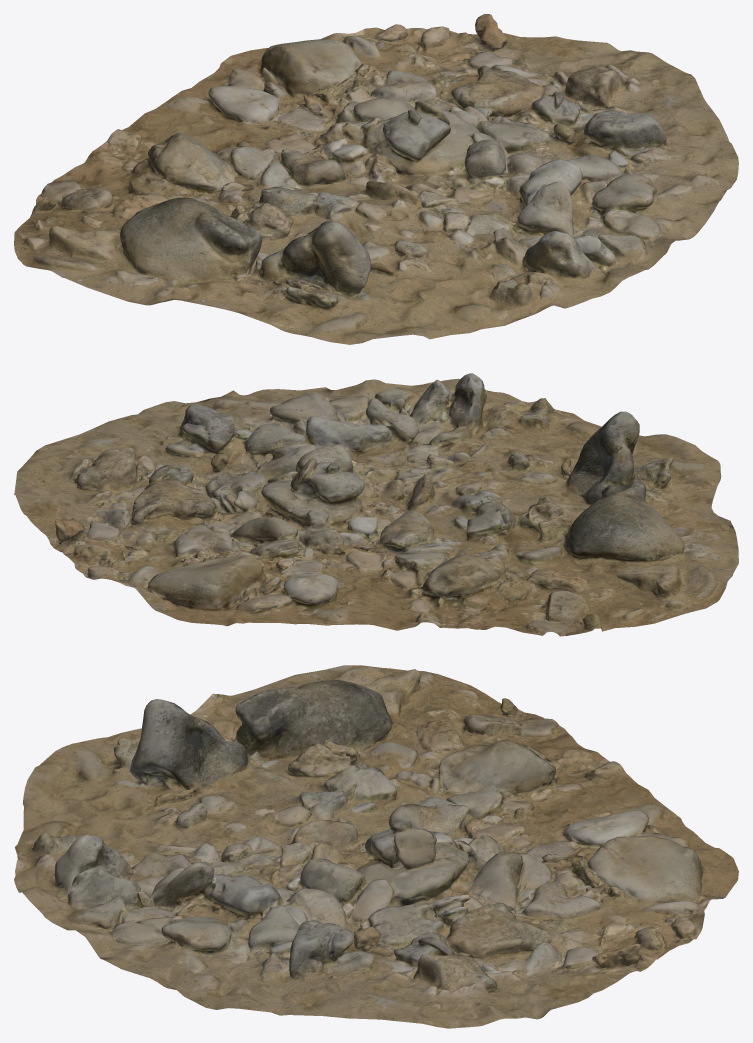
Rendered from sand_rocks_small_01.glb.
The picture shows the model from 3 angles, top to bottom: view 1: azimuth 30°, elevation 25°; view 2: azimuth 150°, elevation 25°; view 3: azimuth 270°, elevation 25°; orthographic projection. The views are drawn at different scales.
Visible parts, largest first — view 1: sand_rocks_small_01_LOD0; view 2: sand_rocks_small_01_LOD0; view 3: sand_rocks_small_01_LOD0.
Boxes of the visible parts, x1=… form: sand_rocks_small_01_LOD0: x1=14, y1=14, x2=738, y2=344; sand_rocks_small_01_LOD0: x1=14, y1=373, x2=738, y2=636; sand_rocks_small_01_LOD0: x1=14, y1=665, x2=738, y2=1028.
Size of the model in its own units: 4.63 by 0.5348 by 3.88.
Materials: 1 (1 with a texture image).
